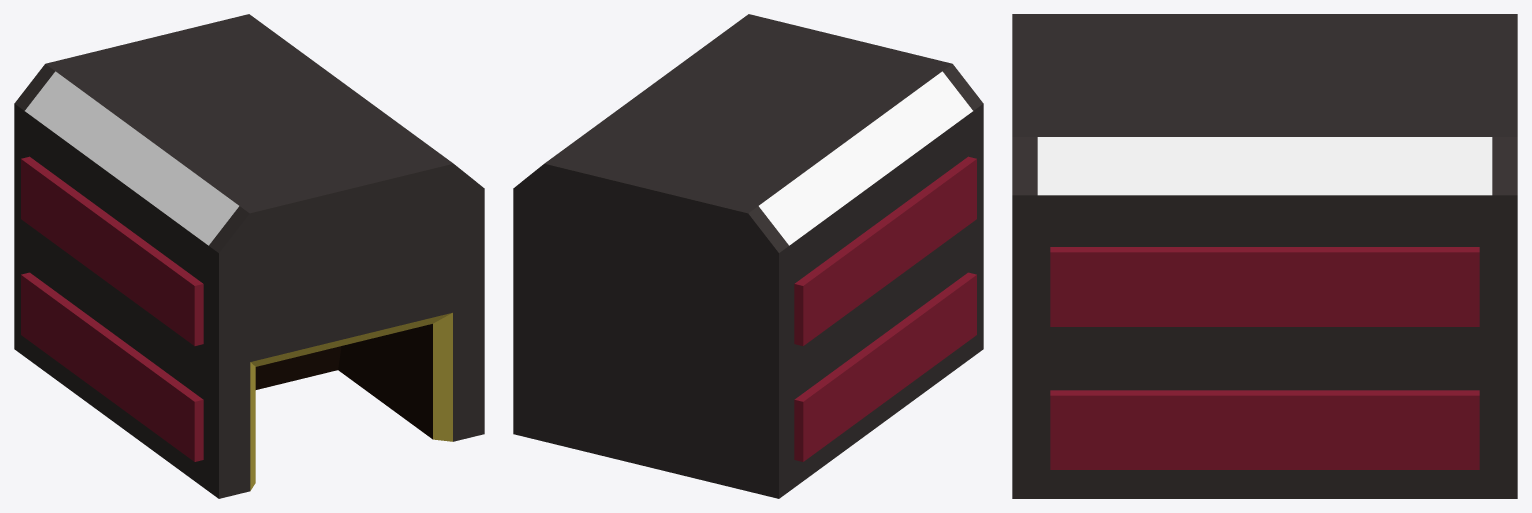
The model's file is Createur.fbx.
The picture shows the model from 3 angles, left to right: view 1: azimuth 30°, elevation 25°; view 2: azimuth 150°, elevation 25°; view 3: azimuth 270°, elevation 25°; orthographic projection. The views are drawn at different scales.
Parts seen in each view (by area): view 1: Createur; view 2: Createur; view 3: Createur.
Boxes of the visible parts, x1,y1,x2,y2 form: Createur: (14, 14, 484, 498); Createur: (513, 14, 983, 498); Createur: (1012, 14, 1517, 498).
Bounding box in the file's own units: 160 × 150 × 200.
